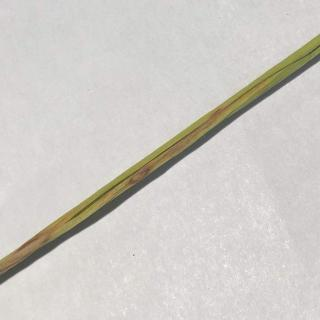Blast: (182, 111, 248, 159), (109, 167, 164, 195), (9, 236, 63, 264)
